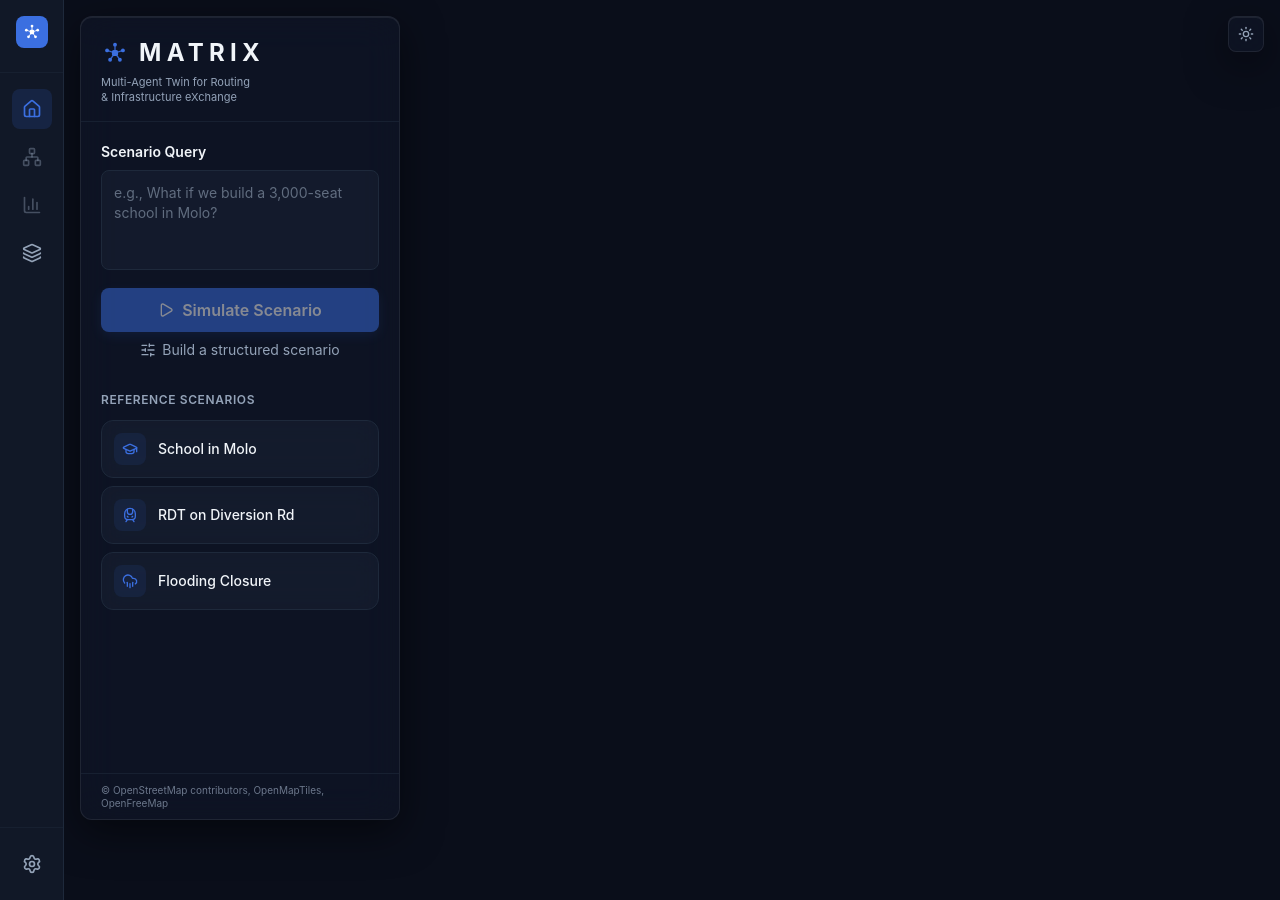
Test: MatrixCockpit scenario submission › shows the labeled "Sample mode: API offline" state on network failure
Type "What if we build a 3,000-seat school in Molo?" into the text box labelled "Scenario Query" at (240, 220), box [101,170,379,270]
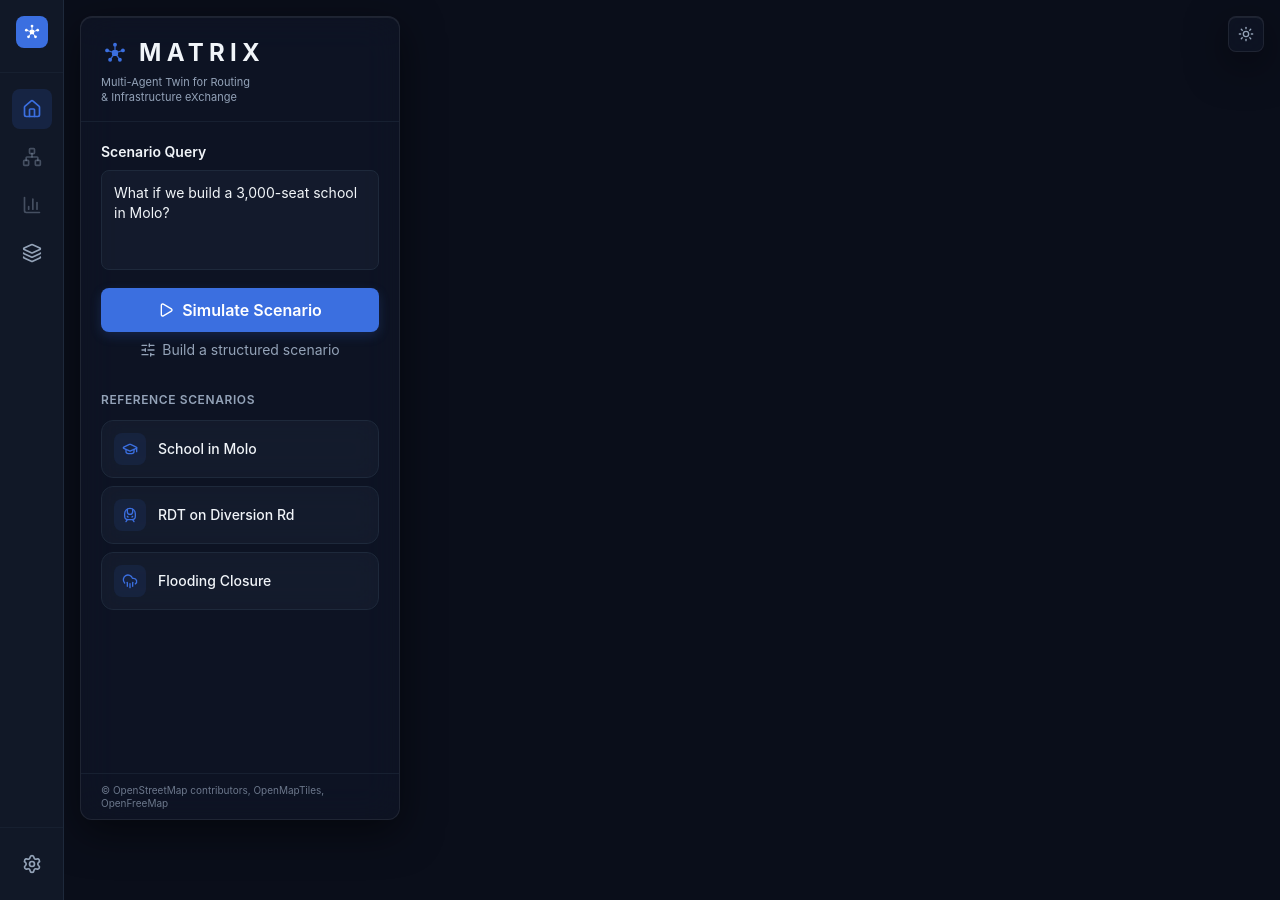
Click the button "Simulate Scenario" at (240, 310), box [101,288,379,332]
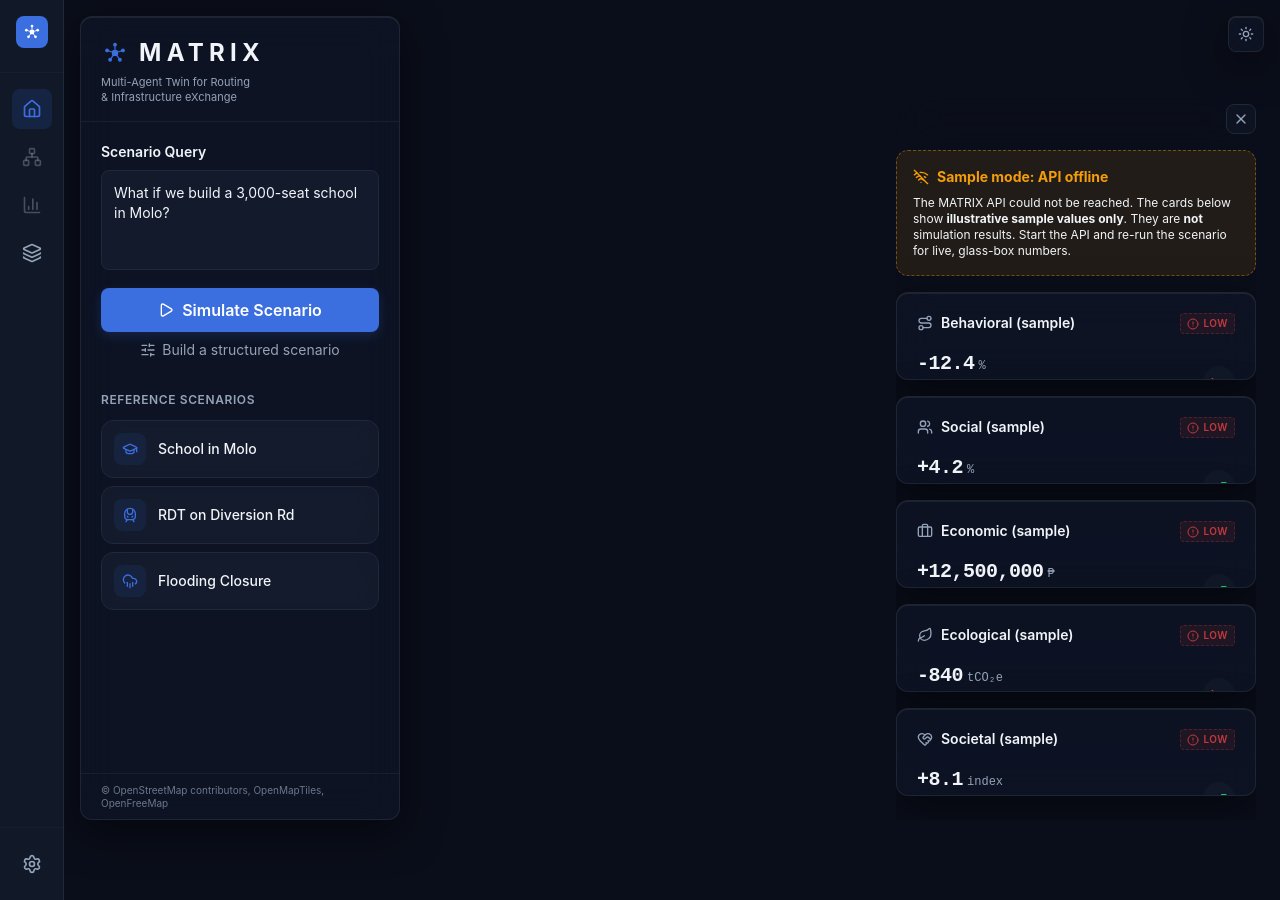
Check: the text "Sample mode: API offline" is shown, box [913,168,1108,185]
Check: the heading "Economic (sample)" is shown, box [941,521,1070,541]
Check: the heading "Behavioral (sample)" is shown, box [941,313,1075,333]
